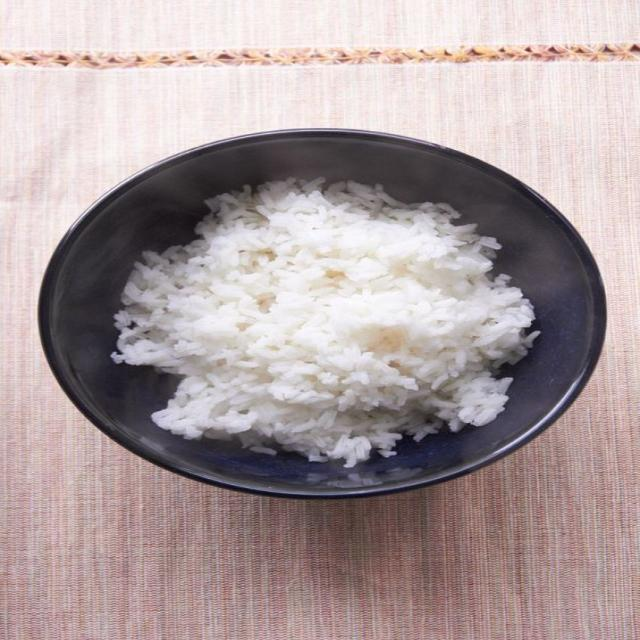nasi_putih: (108, 169, 542, 482)
